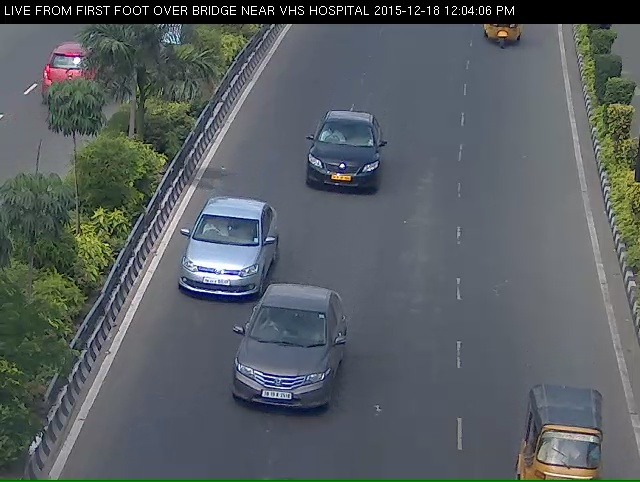Car: (226, 320, 338, 437), (170, 201, 255, 317), (304, 114, 376, 215), (517, 403, 606, 475), (477, 23, 527, 64)
